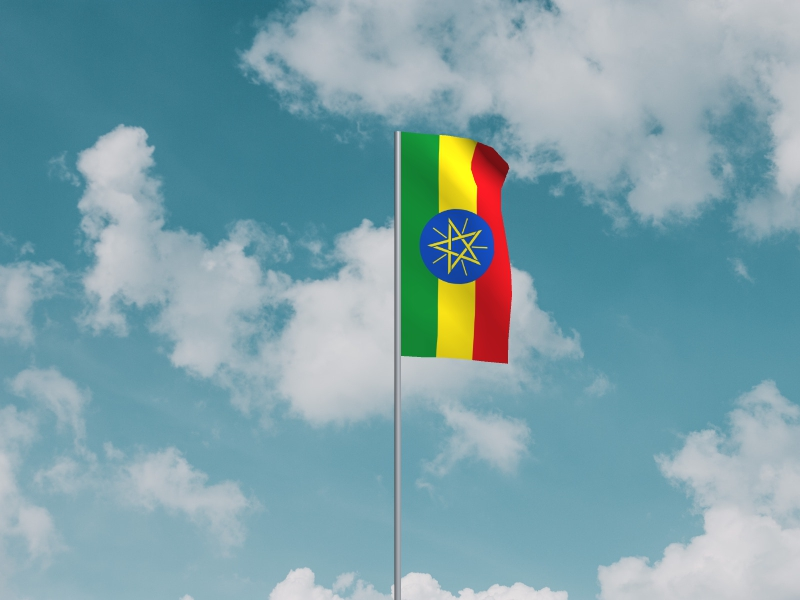et: (402, 131, 514, 366)
